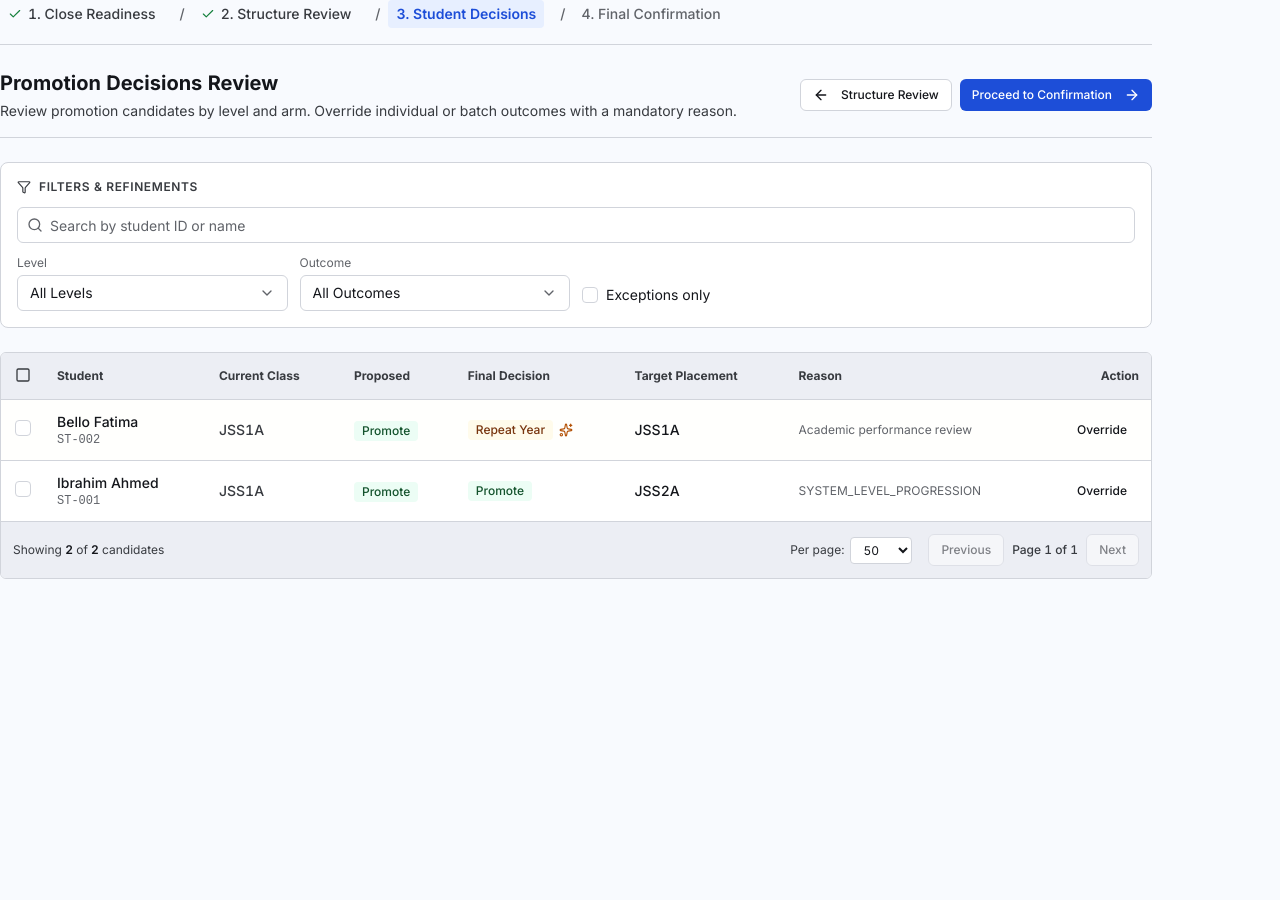
Scenario: StudentDecisionsScreen › opens override dialog on single student override click
# Rows run A to Z by surname, so Bello comes before Ibrahim.
Click the button "Override" in the row of "Ibrahim Ahmed" at (1102, 491), box x1=1065 y1=475 x2=1139 y2=507
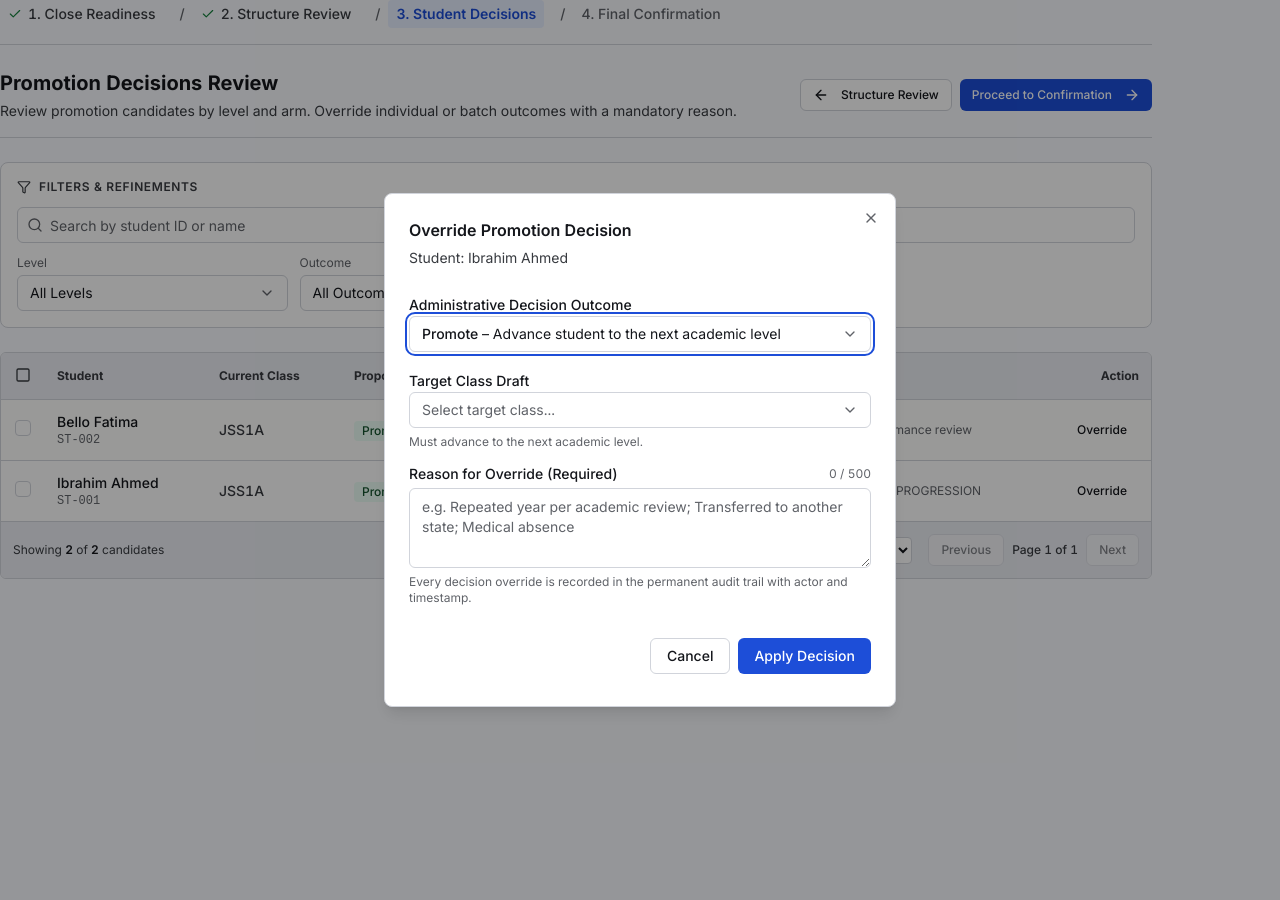
Expected: the dialog is shown, x1=384 y1=193 x2=896 y2=707
Expected: the heading "Override Promotion Decision" is shown, x1=409 y1=220 x2=632 y2=240
Expected: the text "Student: Ibrahim Ahmed" is shown, x1=409 y1=249 x2=568 y2=266
